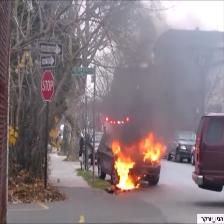fire: (114, 154, 136, 188), (139, 134, 162, 162)
smoke: (124, 69, 193, 116)
